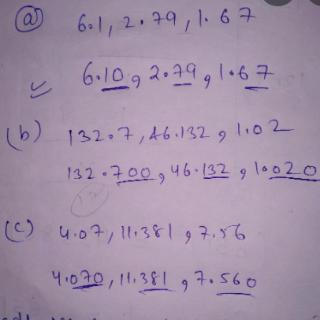.: (138, 15, 145, 25), (87, 19, 93, 30)
0: (302, 160, 318, 177), (112, 64, 124, 83), (77, 228, 88, 241)
1: (96, 13, 103, 34), (102, 66, 110, 83), (119, 222, 126, 241), (161, 269, 168, 288), (167, 221, 174, 239), (126, 223, 133, 240), (66, 163, 72, 180)
2: (146, 60, 161, 82), (121, 11, 136, 30), (83, 164, 96, 182)
3: (72, 164, 83, 181)
5: (218, 271, 230, 285)
6: (80, 59, 96, 87), (75, 12, 87, 34), (231, 270, 242, 286)
7: (87, 223, 106, 239), (197, 221, 211, 242), (108, 161, 122, 181), (151, 9, 166, 26)
8: (151, 221, 163, 240), (148, 269, 160, 287)
9: (184, 61, 198, 81), (165, 9, 178, 27)
